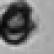correct: (0, 0, 47, 46)
